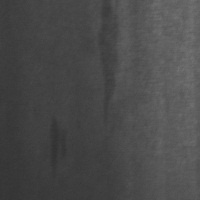inclusion: (91, 1, 125, 130), (42, 109, 73, 181)
